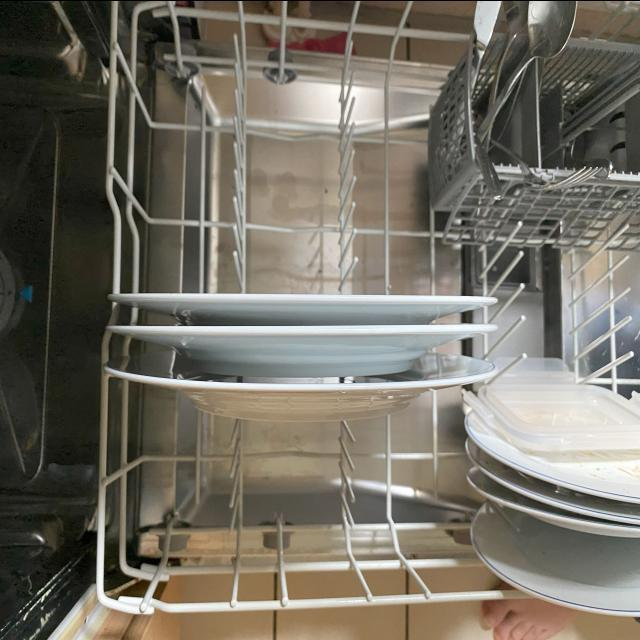clutery_bin: (465, 35, 636, 178)
empty_slot: (152, 11, 414, 273), (148, 409, 425, 570), (488, 214, 636, 387)
